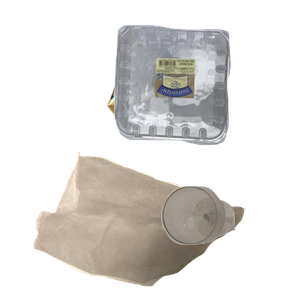glass: (159, 184, 300, 300)
metal: (105, 63, 300, 192)
plastic: (112, 22, 300, 160)
trash: (31, 149, 268, 300)
